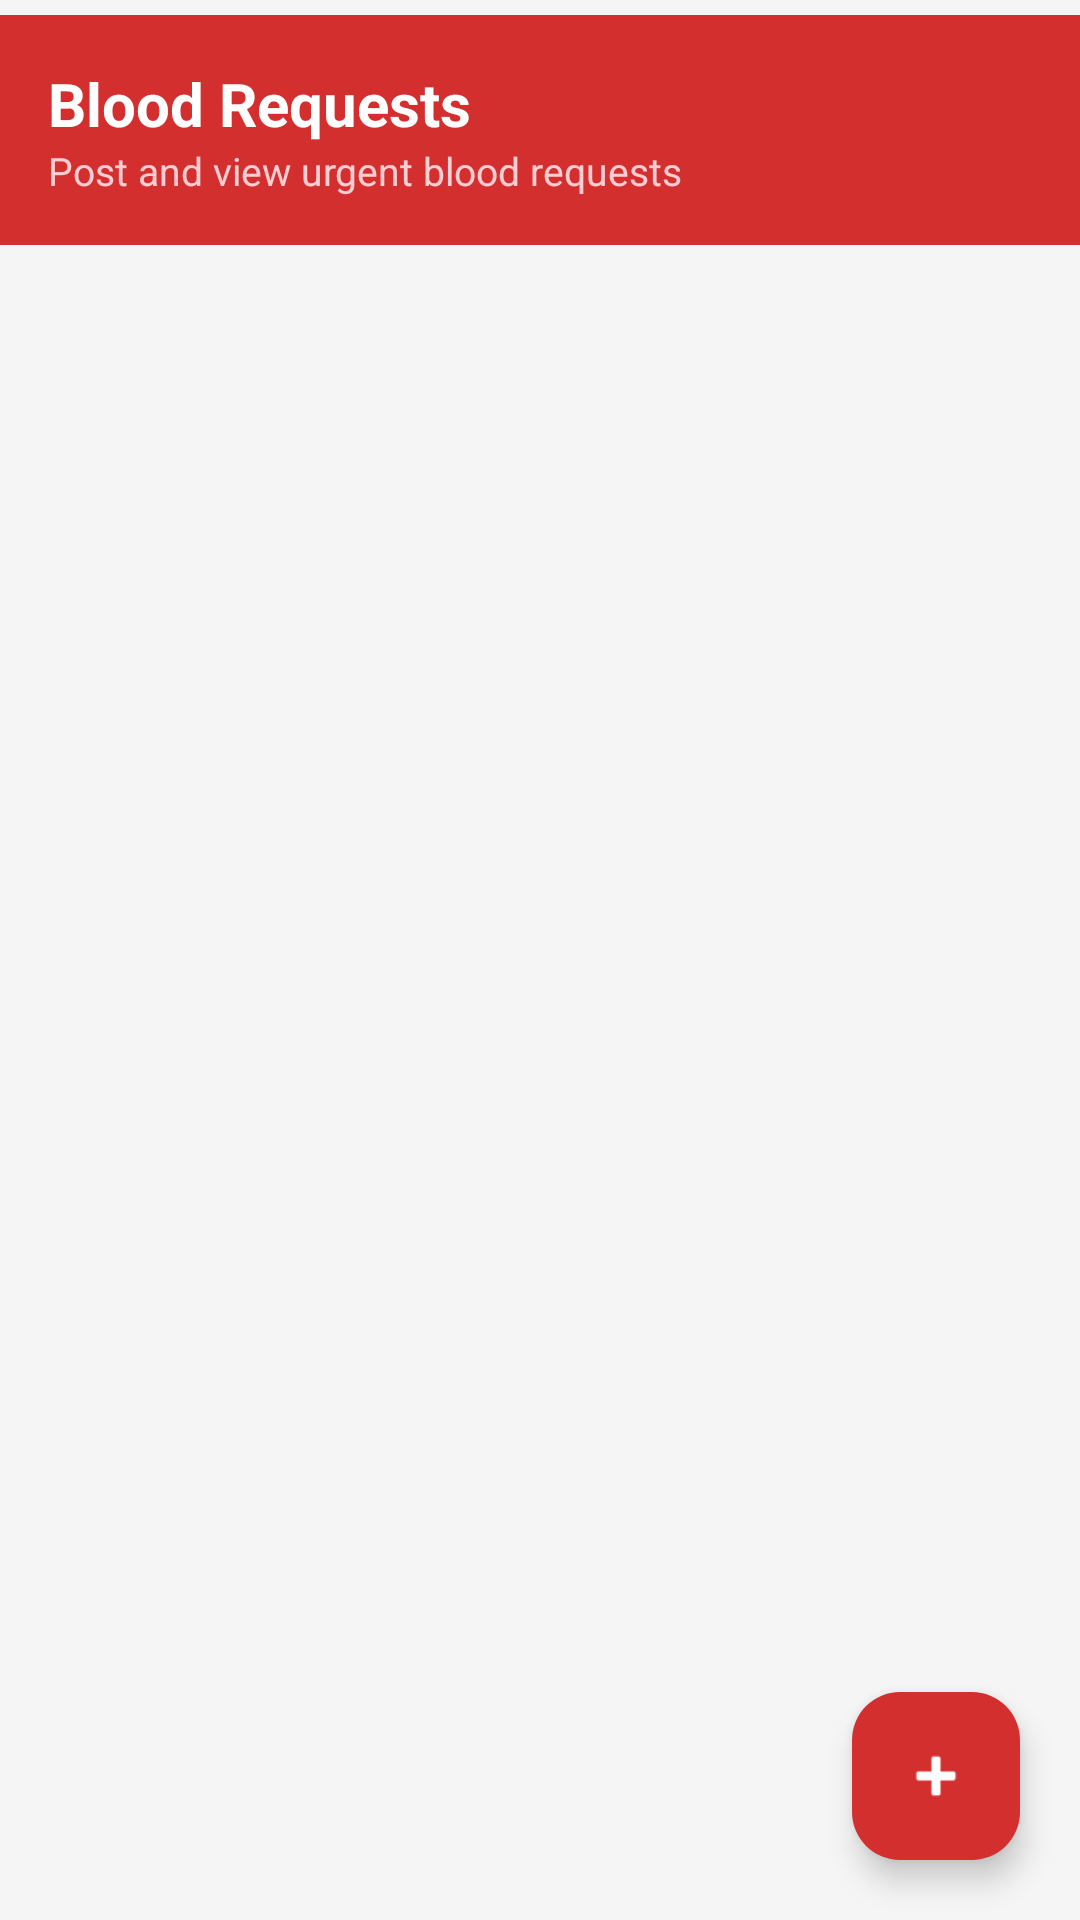

Icons on this 1080*1920 Android screen, each with its box as (x1, y1, x2, y2):
Post Request: (852, 1692, 1020, 1860)
